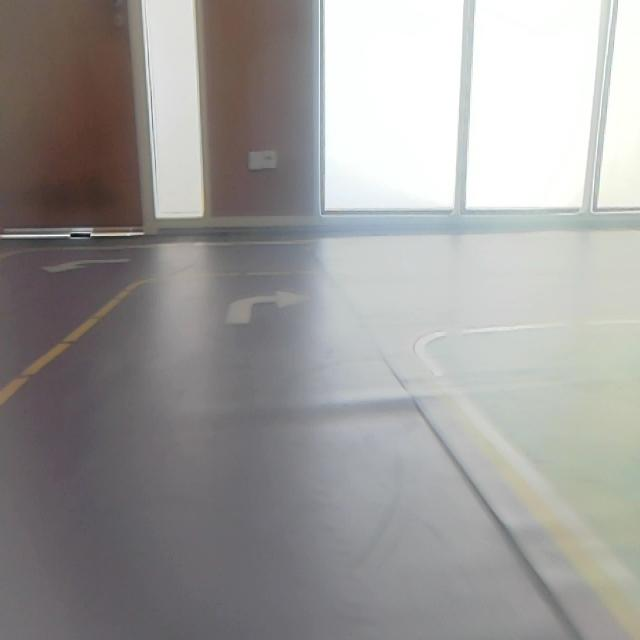left_lane: (0, 283, 137, 407)
right_lane: (411, 351, 640, 640)
